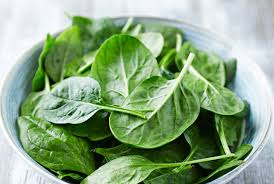spinach: (114, 67, 189, 140), (85, 32, 154, 94), (39, 65, 100, 126), (25, 116, 93, 168)
